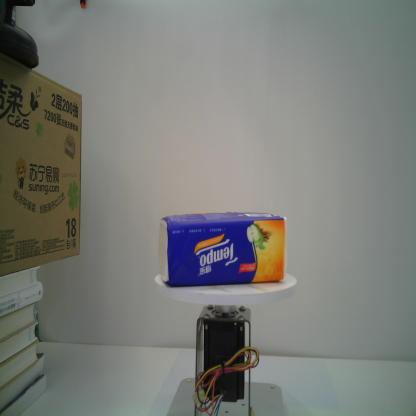Tissue: (156, 210, 288, 288)
